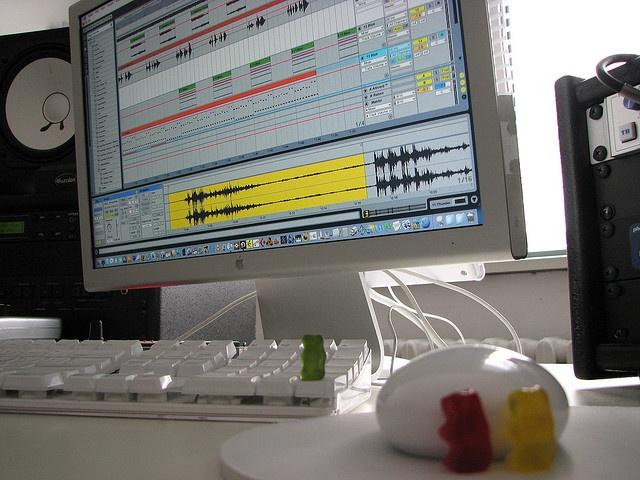AIO PC-Monitor-TV: (64, 0, 531, 339)
